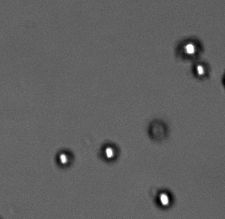Dead Cell: (149, 119, 168, 140)
Living Cell: (177, 37, 201, 59), (155, 188, 173, 209), (100, 142, 117, 162), (56, 150, 73, 168), (192, 62, 210, 79)
